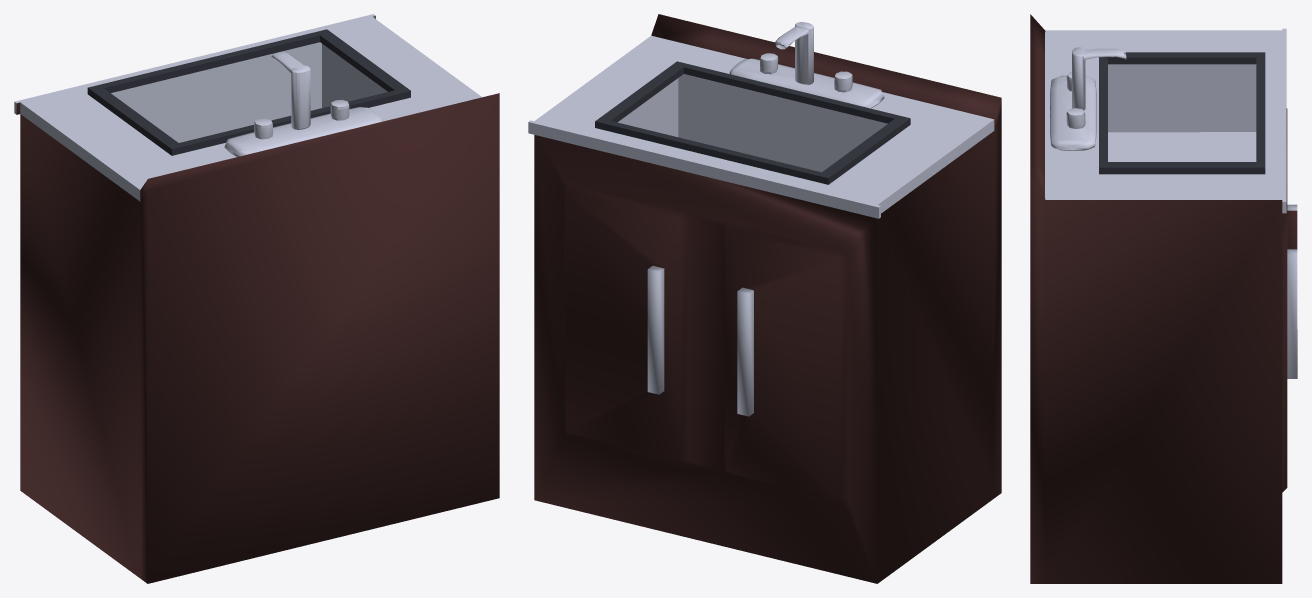
Rendered from sinkTestSepSink.fbx.
3 views of the same model, side by side, from view 1: azimuth 30°, elevation 25°; view 2: azimuth 150°, elevation 25°; view 3: azimuth 270°, elevation 25° (orthographic). The views are drawn at different scales.
Parts seen in each view (by area): view 1: CabinetDoor2, CabinetDoor2.001, SinkRim, FaucetBase; view 2: CabinetDoor2, CabinetDoor2.001, SinkRim, FaucetBase; view 3: CabinetDoor2, CabinetDoor2.001, SinkRim, FaucetBase.
Boxes of the visible parts, left/top/right/bottom form: CabinetDoor2: left=16, top=93, right=499, bottom=583; CabinetDoor2.001: left=14, top=14, right=481, bottom=201; SinkRim: left=87, top=29, right=410, bottom=155; FaucetBase: left=224, top=52, right=382, bottom=156; CabinetDoor2: left=534, top=14, right=1001, bottom=583; CabinetDoor2.001: left=528, top=35, right=994, bottom=218; SinkRim: left=595, top=61, right=910, bottom=184; FaucetBase: left=729, top=22, right=884, bottom=108; CabinetDoor2: left=1030, top=14, right=1297, bottom=583; CabinetDoor2.001: left=1045, top=28, right=1286, bottom=213; SinkRim: left=1099, top=52, right=1265, bottom=174; FaucetBase: left=1050, top=47, right=1126, bottom=150.
Size of the model in its own units: 309 by 373 by 201.
